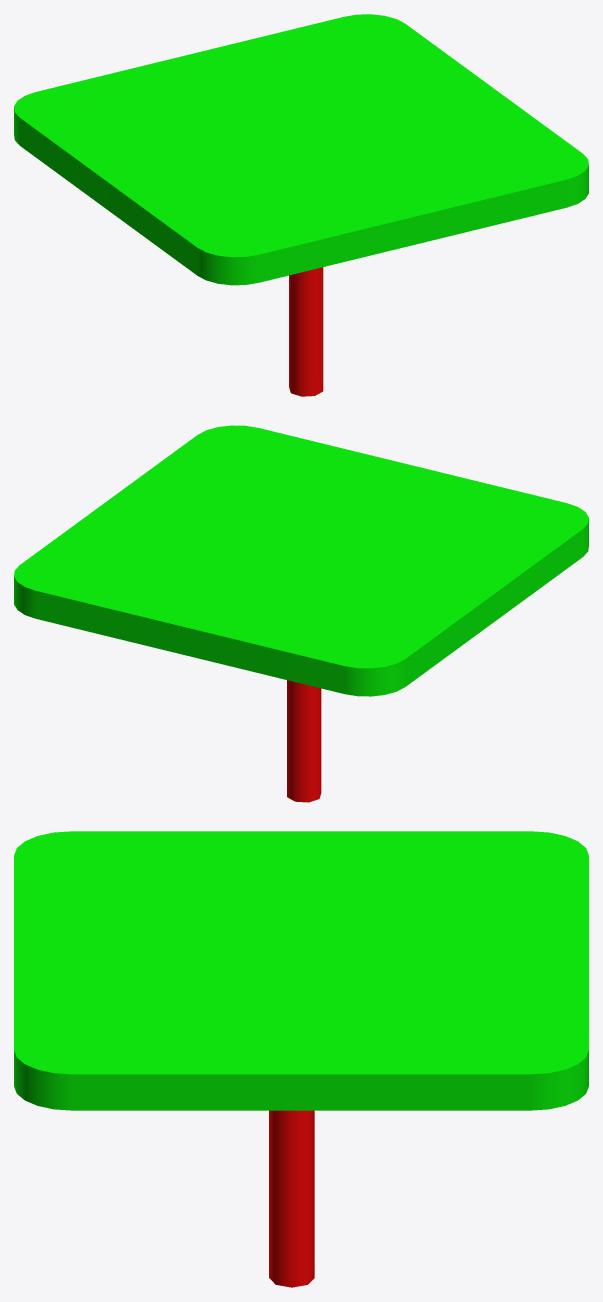
The model's file is table lol.fbx.
The picture shows the model from 3 angles, top to bottom: view 1: azimuth 30°, elevation 25°; view 2: azimuth 150°, elevation 25°; view 3: azimuth 270°, elevation 25°; orthographic projection. The views are drawn at different scales.
Parts seen in each view (by area): view 1: Table, Cylinder; view 2: Table, Cylinder; view 3: Table, Cylinder.
Boxes of the visible parts, left/top/right/bottom form: Table: left=14, top=14, right=588, bottom=285; Cylinder: left=289, top=267, right=323, bottom=396; Table: left=14, top=425, right=588, bottom=696; Cylinder: left=287, top=680, right=321, bottom=802; Table: left=14, top=831, right=588, bottom=1110; Cylinder: left=269, top=1110, right=314, bottom=1287.
Size of the model in its own units: 2.47 by 1.54 by 2.47.
